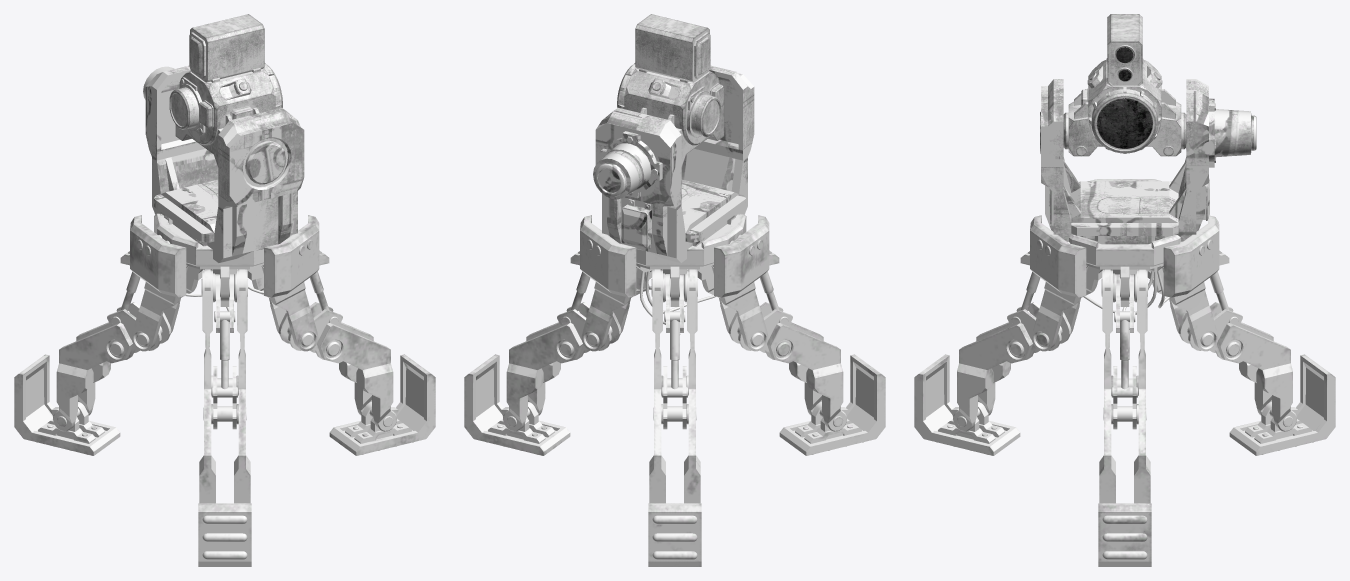
The model's file is Lazer_Turret0.fbx.
3 views of the same model, side by side, from view 1: azimuth 30°, elevation 25°; view 2: azimuth 150°, elevation 25°; view 3: azimuth 270°, elevation 25° (orthographic).
Visible parts, largest first — view 1: S_Base, S_Mount, S_Head_Laser; view 2: S_Base, S_Mount, S_Head_Laser; view 3: S_Base, S_Mount, S_Head_Laser.
Part boxes in pixels (bbox=[...]): S_Base: bbox=[14, 213, 435, 566]; S_Mount: bbox=[143, 65, 304, 262]; S_Head_Laser: bbox=[169, 14, 282, 166]; S_Base: bbox=[464, 213, 885, 566]; S_Mount: bbox=[593, 65, 754, 262]; S_Head_Laser: bbox=[617, 14, 724, 166]; S_Base: bbox=[914, 179, 1335, 566]; S_Mount: bbox=[1040, 79, 1256, 244]; S_Head_Laser: bbox=[1063, 14, 1186, 156].
Bounding box in the file's own units: 137 × 185 × 156.
